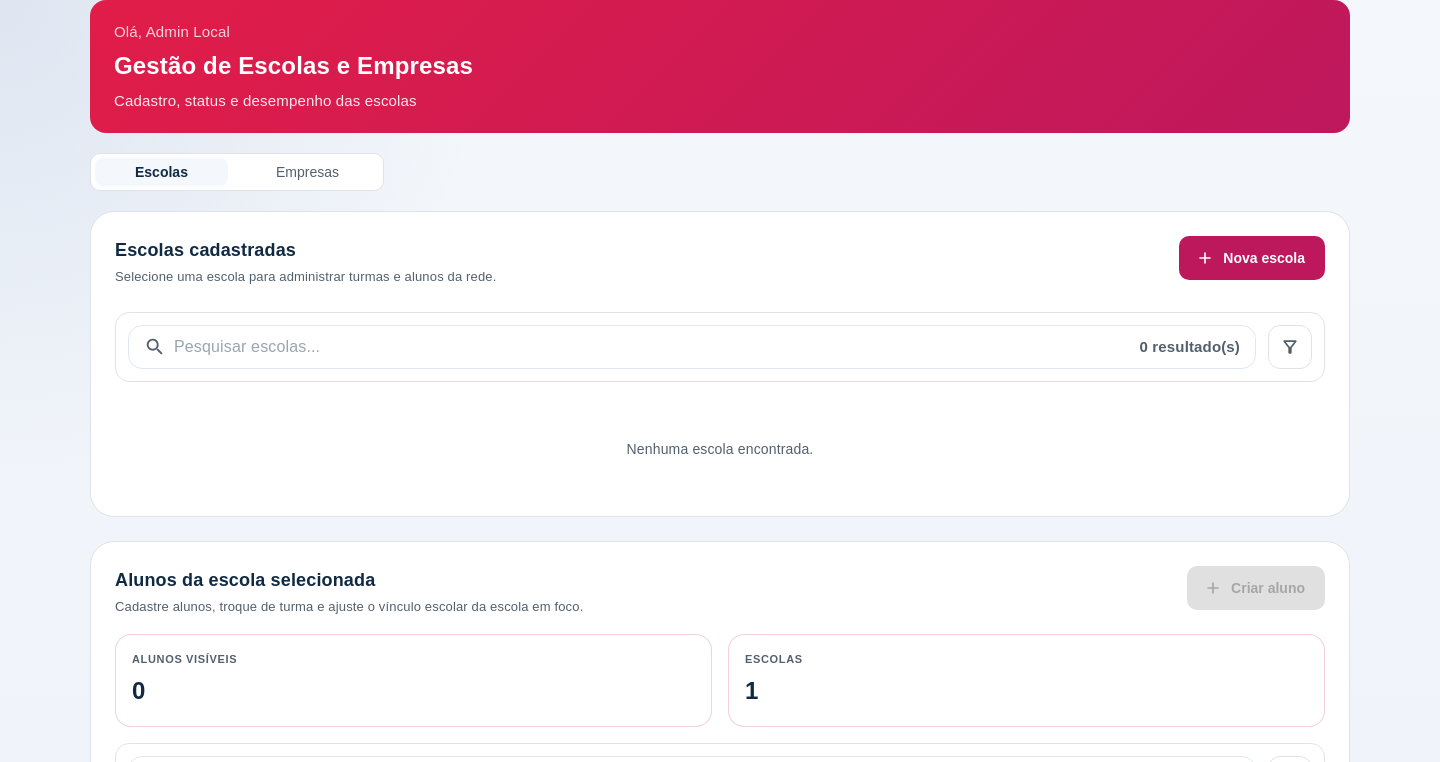
SchoolCompanyPage toggles to empresa view
Step 1. Click the button with test id "toggle-empresa" → point(307, 172), box left=236, top=158, right=379, bottom=186
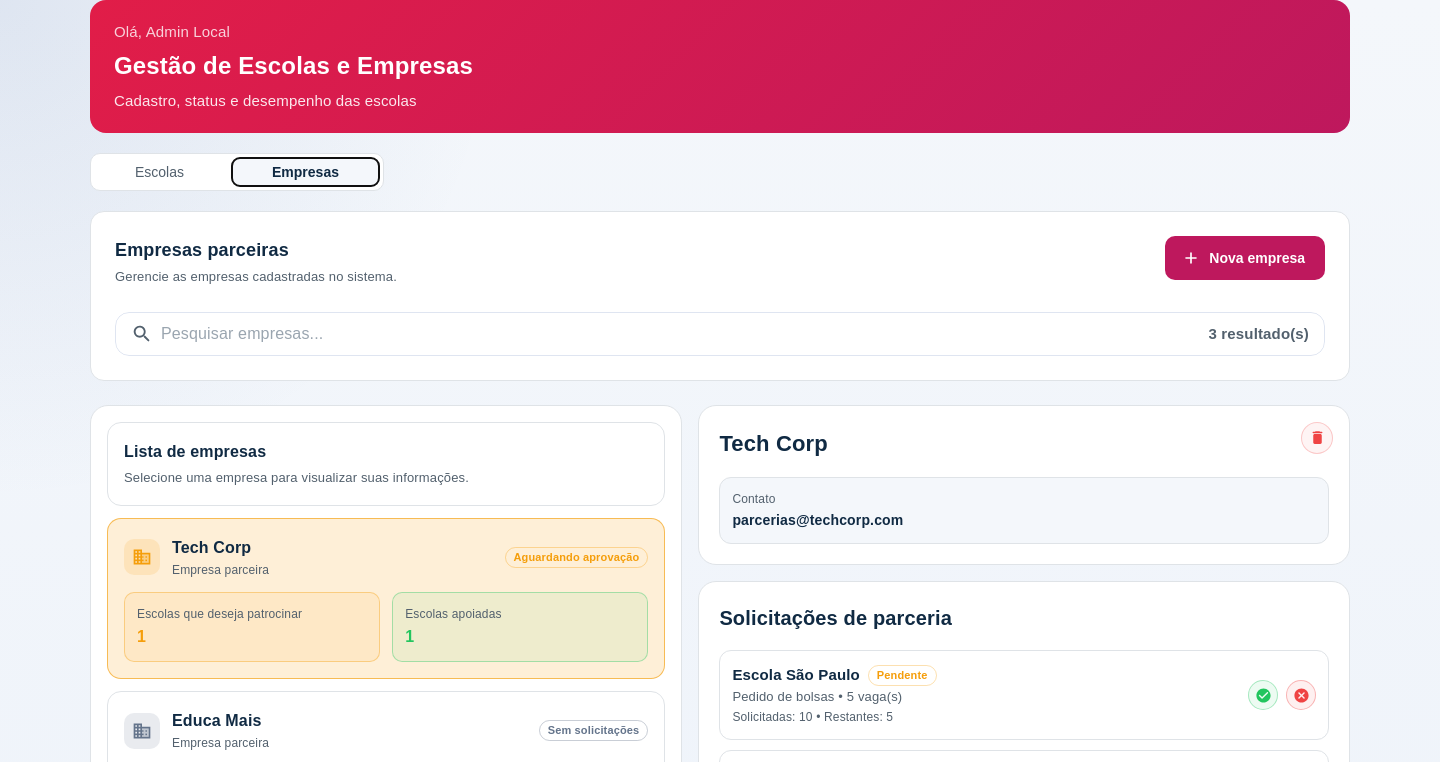
Expected: the element with test id "company-item-company-1" is shown, left=107, top=518, right=665, bottom=680
Expected: the text "Empresas parceiras" is shown, left=115, top=240, right=289, bottom=260
Expected: the text "Lista de empresas" is shown, left=124, top=442, right=266, bottom=460
